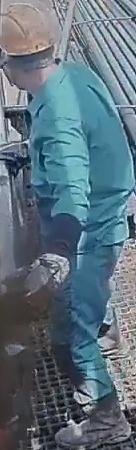helmet: (0, 0, 61, 69)
vest: (25, 59, 135, 247)
